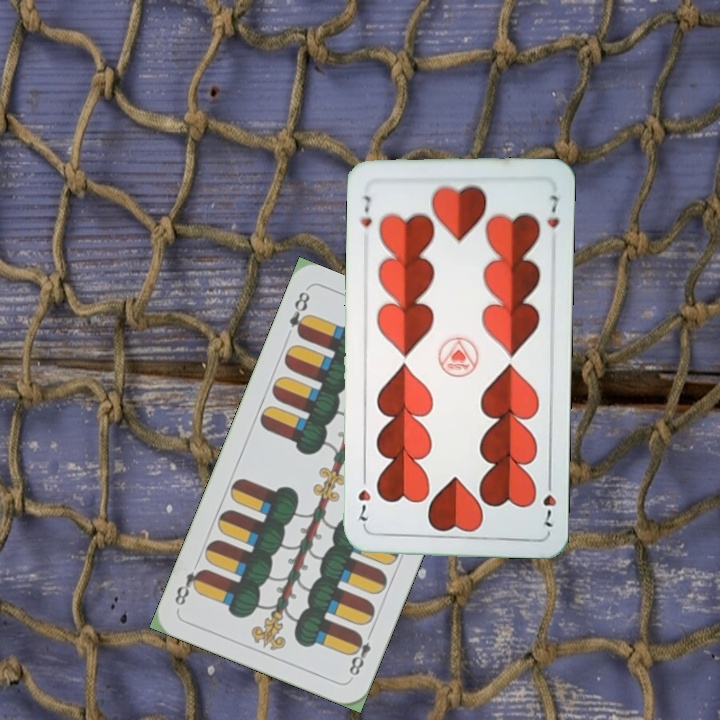E8: (345, 625, 376, 679), (285, 287, 313, 340)
H7: (539, 473, 559, 530), (355, 192, 374, 230)
